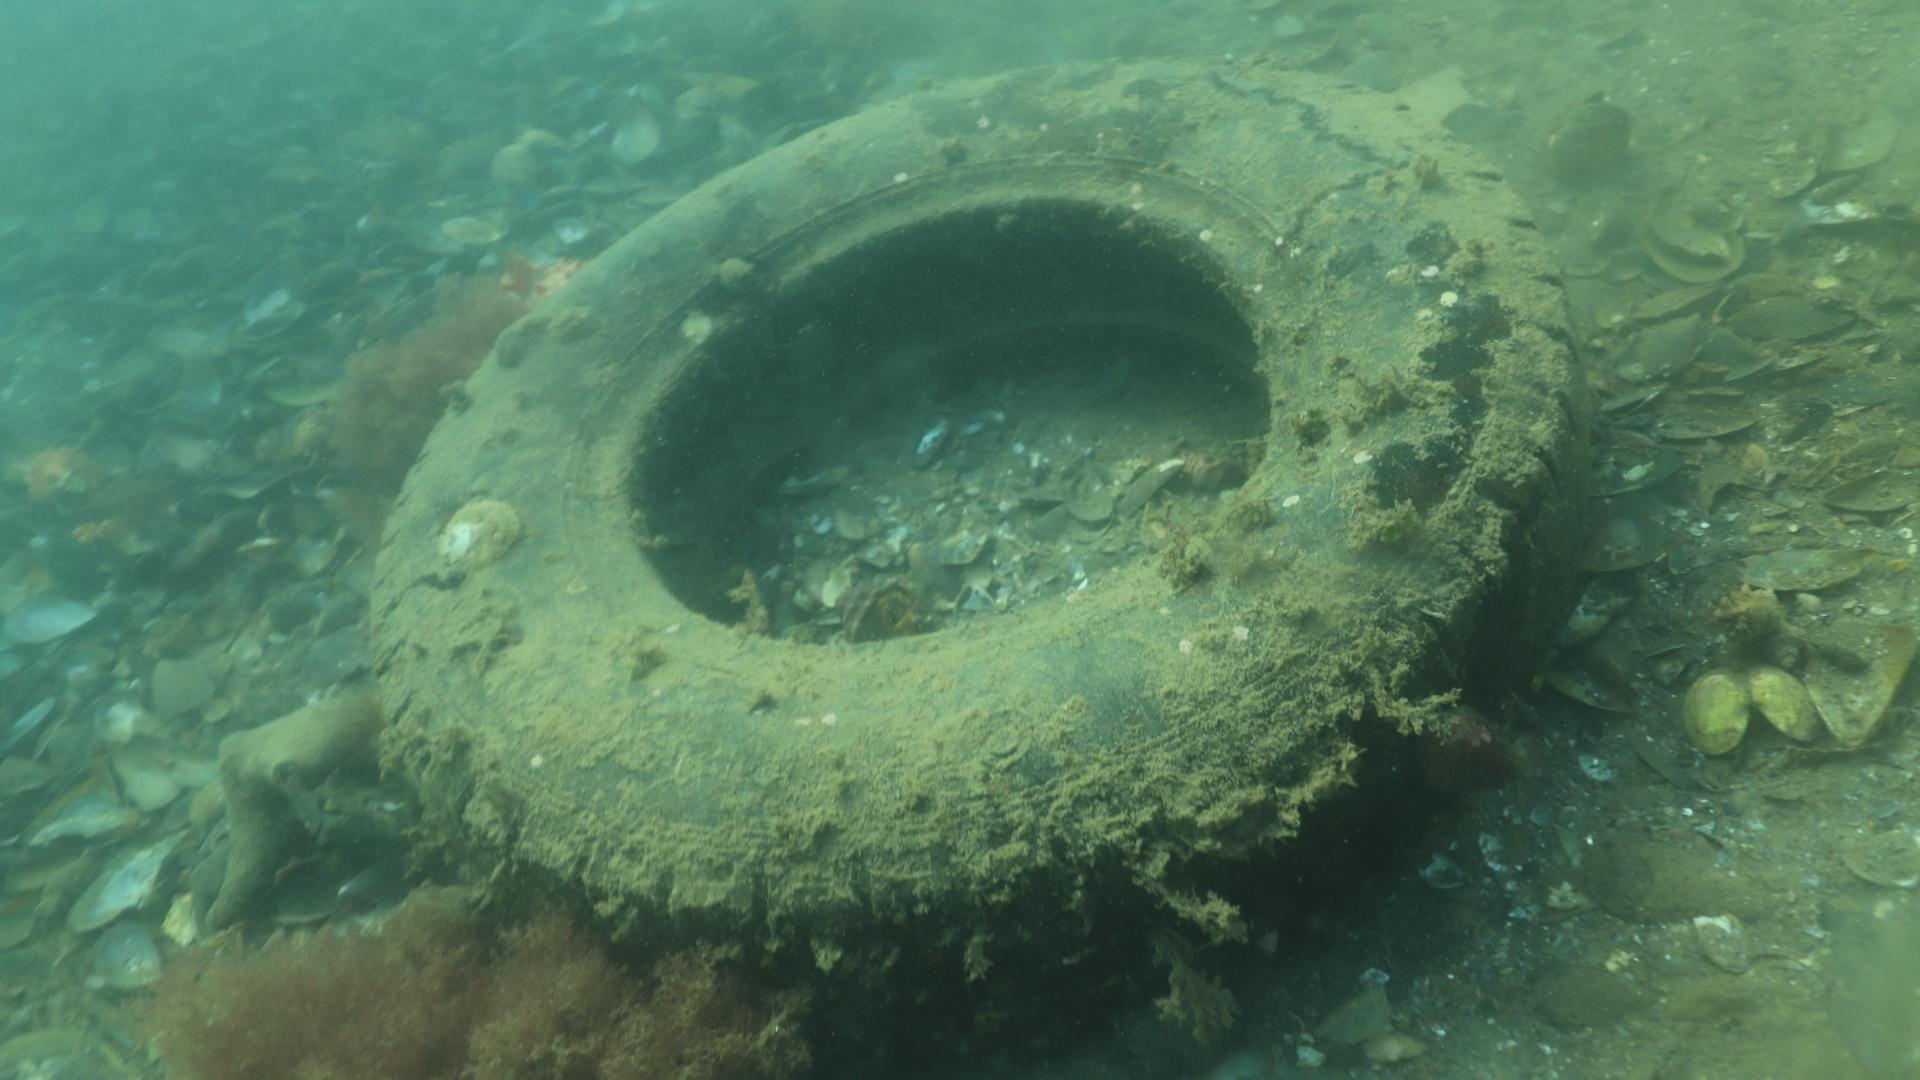tire: (367, 54, 1594, 1080)
